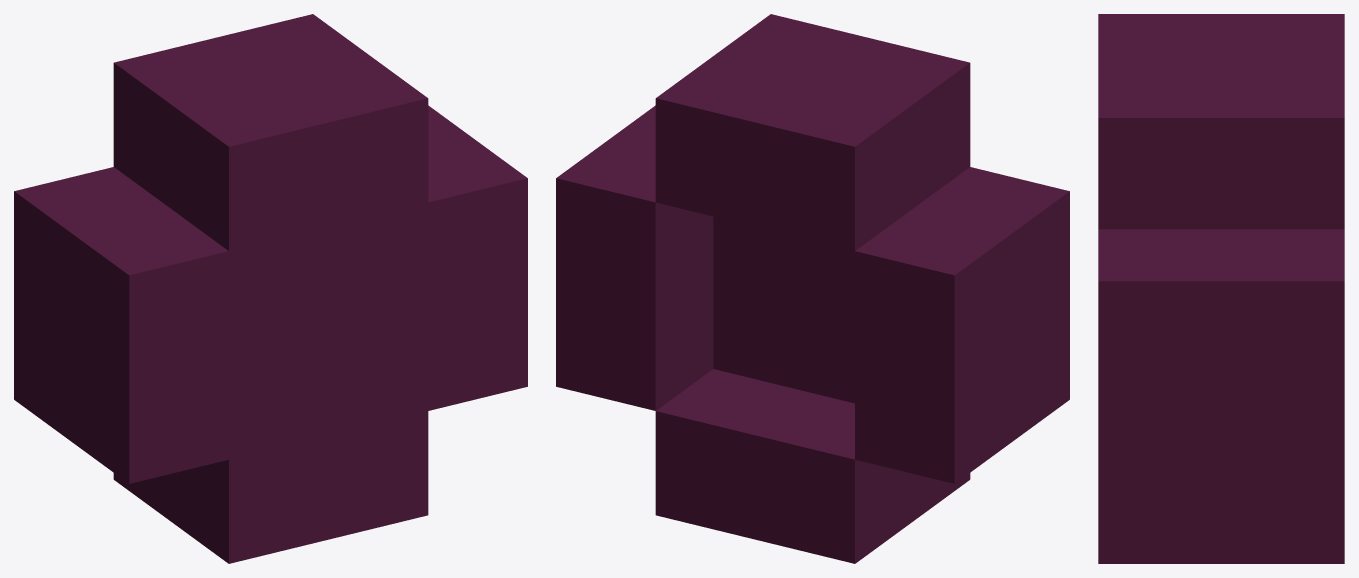
File: purpleishl.fbx
The picture shows the model from 3 angles, left to right: view 1: azimuth 30°, elevation 25°; view 2: azimuth 150°, elevation 25°; view 3: azimuth 270°, elevation 25°; orthographic projection. The views are drawn at different scales.
Parts seen in each view (by area): view 1: cube.004, cube.005, cube.001, cube.002, cube.003; view 2: cube.004, cube.005, cube.002, cube.003, cube.001; view 3: cube.003, cube.005, cube.002.
Part boxes in pixels (x1,y1,x2,y2): cube.004: (14, 167, 228, 483); cube.005: (113, 14, 428, 250); cube.001: (229, 202, 428, 459); cube.002: (113, 411, 428, 563); cube.003: (428, 105, 527, 410); cube.004: (855, 167, 1069, 483); cube.005: (655, 14, 970, 250); cube.002: (655, 369, 970, 563); cube.003: (556, 105, 713, 410); cube.001: (713, 216, 854, 403); cube.003: (1098, 229, 1344, 504); cube.005: (1098, 14, 1344, 229); cube.002: (1098, 504, 1344, 563).
Size of the model in its own units: 25 by 25 by 12.5.
